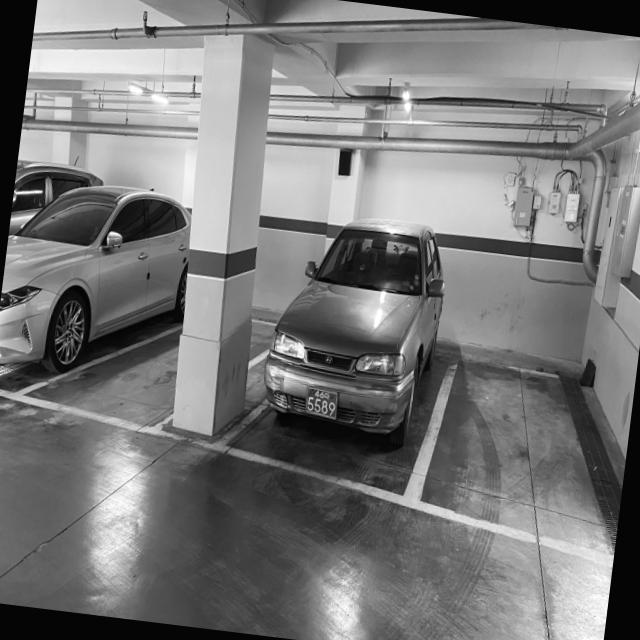car: (260, 210, 455, 436), (0, 171, 196, 371)
free: (400, 355, 615, 566)
